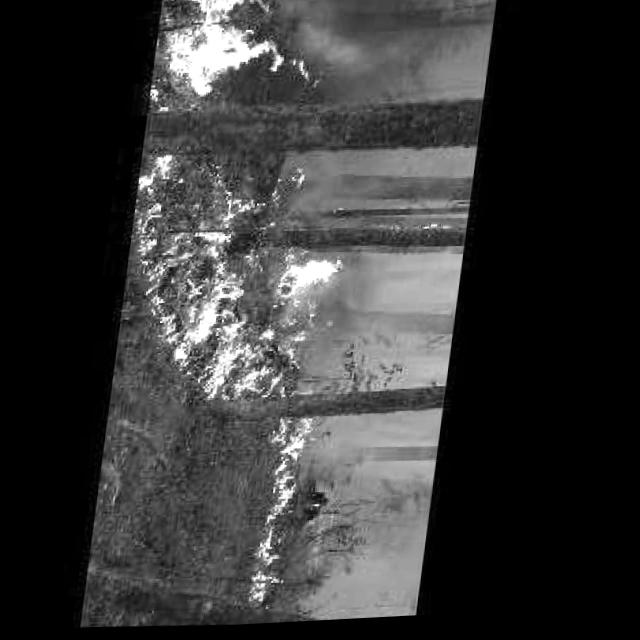no_helmet: (123, 0, 377, 411), (255, 418, 353, 618)
